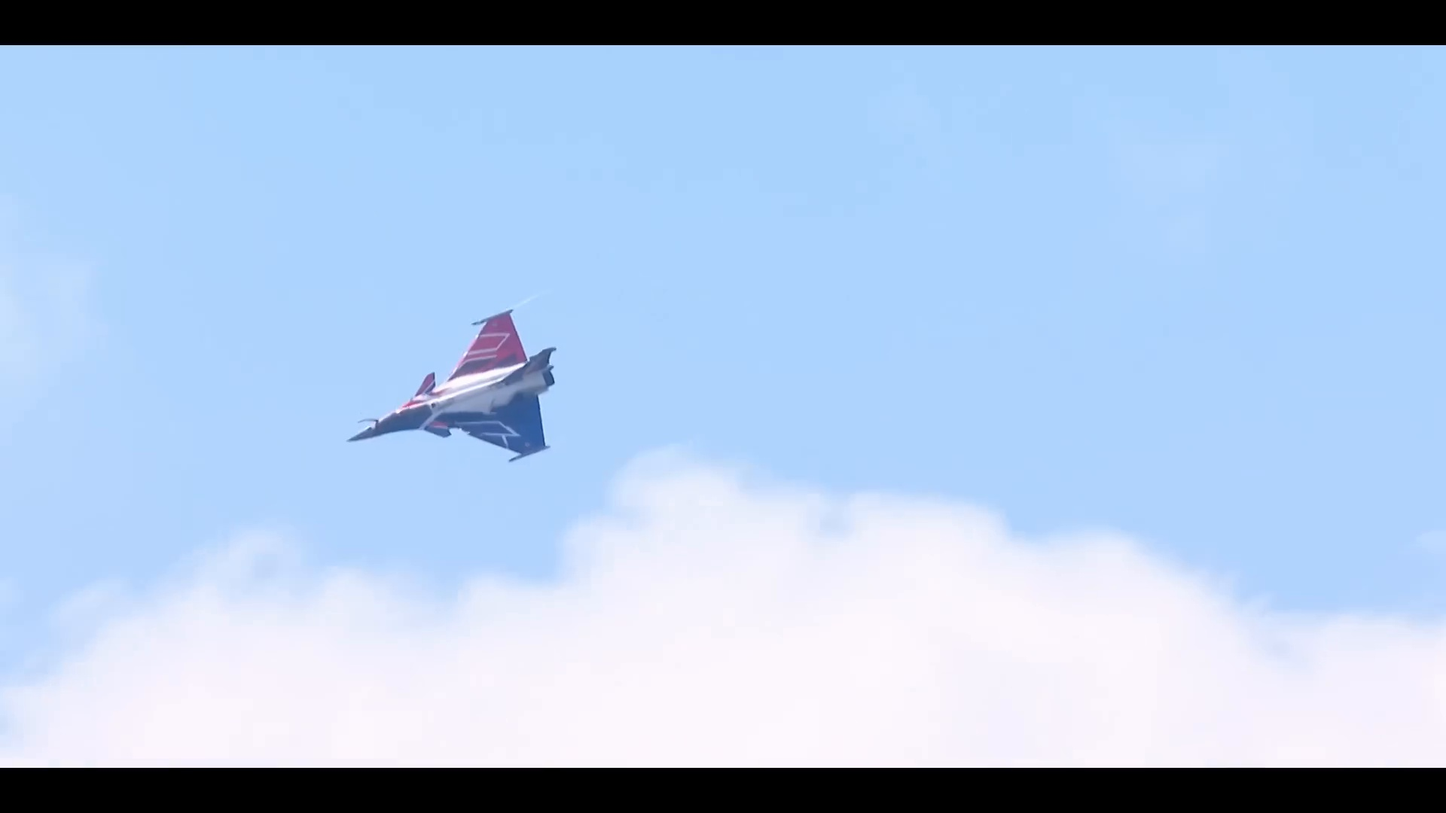Rafale: (339, 305, 559, 465)
